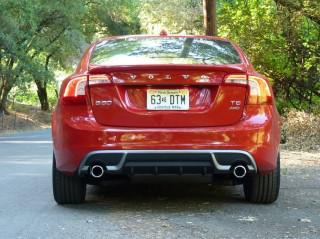volvo: (116, 67, 218, 85)
